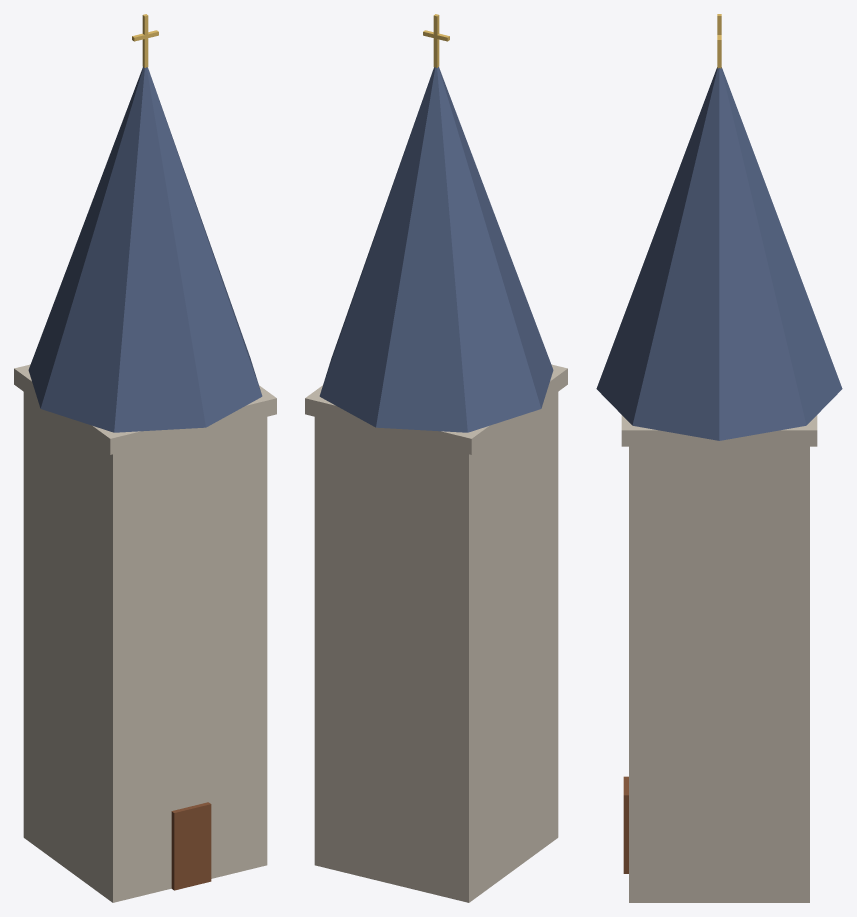
File: spire.glb
3 renders of one model, left to right at view 1: azimuth 30°, elevation 25°; view 2: azimuth 150°, elevation 25°; view 3: azimuth 270°, elevation 25°, orthographic.
Visible parts, largest first — view 1: spire_stone, spire_roof_slate, spire_door; view 2: spire_stone, spire_roof_slate; view 3: spire_stone, spire_roof_slate, spire_door.
Boxes of the visible parts, x1=… form: spire_stone: x1=14, y1=364, x2=276, y2=902; spire_roof_slate: x1=28, y1=67, x2=262, y2=432; spire_door: x1=171, y1=802, x2=211, y2=890; spire_stone: x1=305, y1=364, x2=567, y2=902; spire_roof_slate: x1=319, y1=67, x2=553, y2=432; spire_stone: x1=621, y1=415, x2=817, y2=902; spire_roof_slate: x1=596, y1=67, x2=842, y2=440; spire_door: x1=623, y1=776, x2=628, y2=873.
Bounding box in the file's own units: 6.8 × 25.9 × 6.8.
